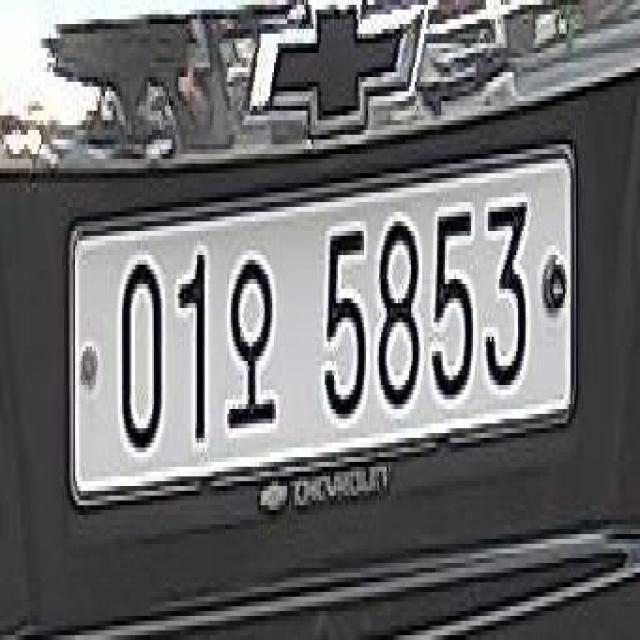illegal_plate: (64, 141, 584, 535)
